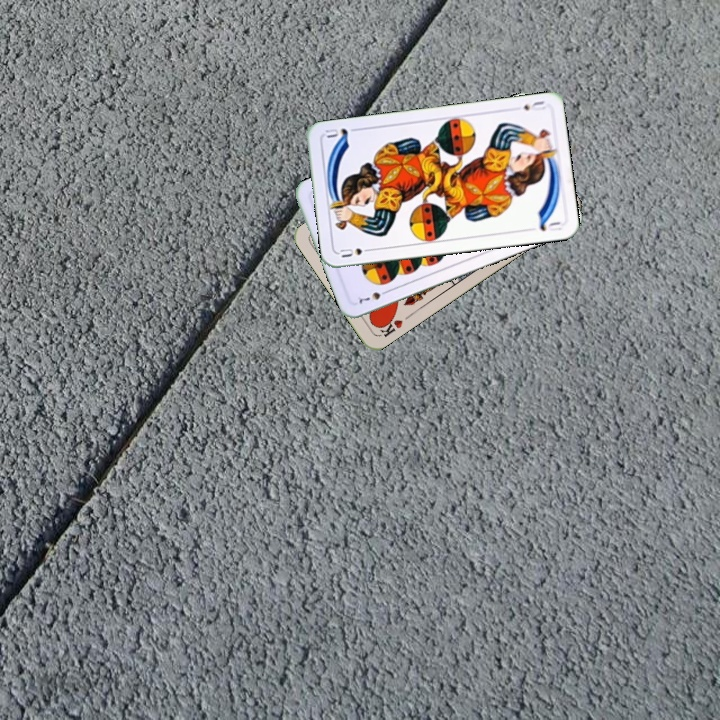HK: (373, 312, 405, 339)
S7: (354, 286, 392, 306)
SU: (336, 243, 376, 260), (519, 97, 548, 114)
